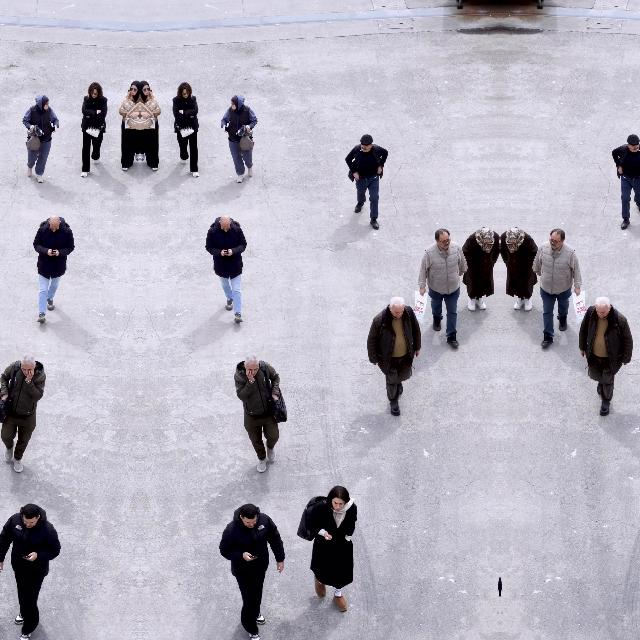person: (218, 503, 285, 640), (0, 503, 61, 640), (296, 485, 358, 611), (366, 296, 422, 416), (578, 296, 634, 416), (418, 228, 468, 348), (532, 228, 582, 348), (234, 355, 282, 473), (0, 355, 46, 473), (205, 215, 247, 323), (33, 215, 75, 323), (345, 134, 389, 230), (220, 94, 258, 184), (22, 94, 59, 184), (462, 226, 500, 312), (500, 226, 538, 312), (611, 134, 640, 230), (172, 82, 200, 178), (80, 82, 108, 178), (140, 80, 160, 172), (120, 80, 140, 172)
